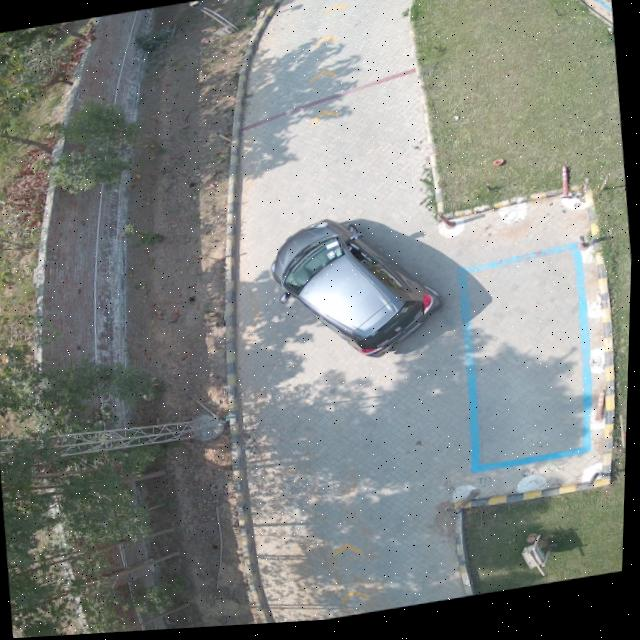car: (270, 222, 447, 362)
